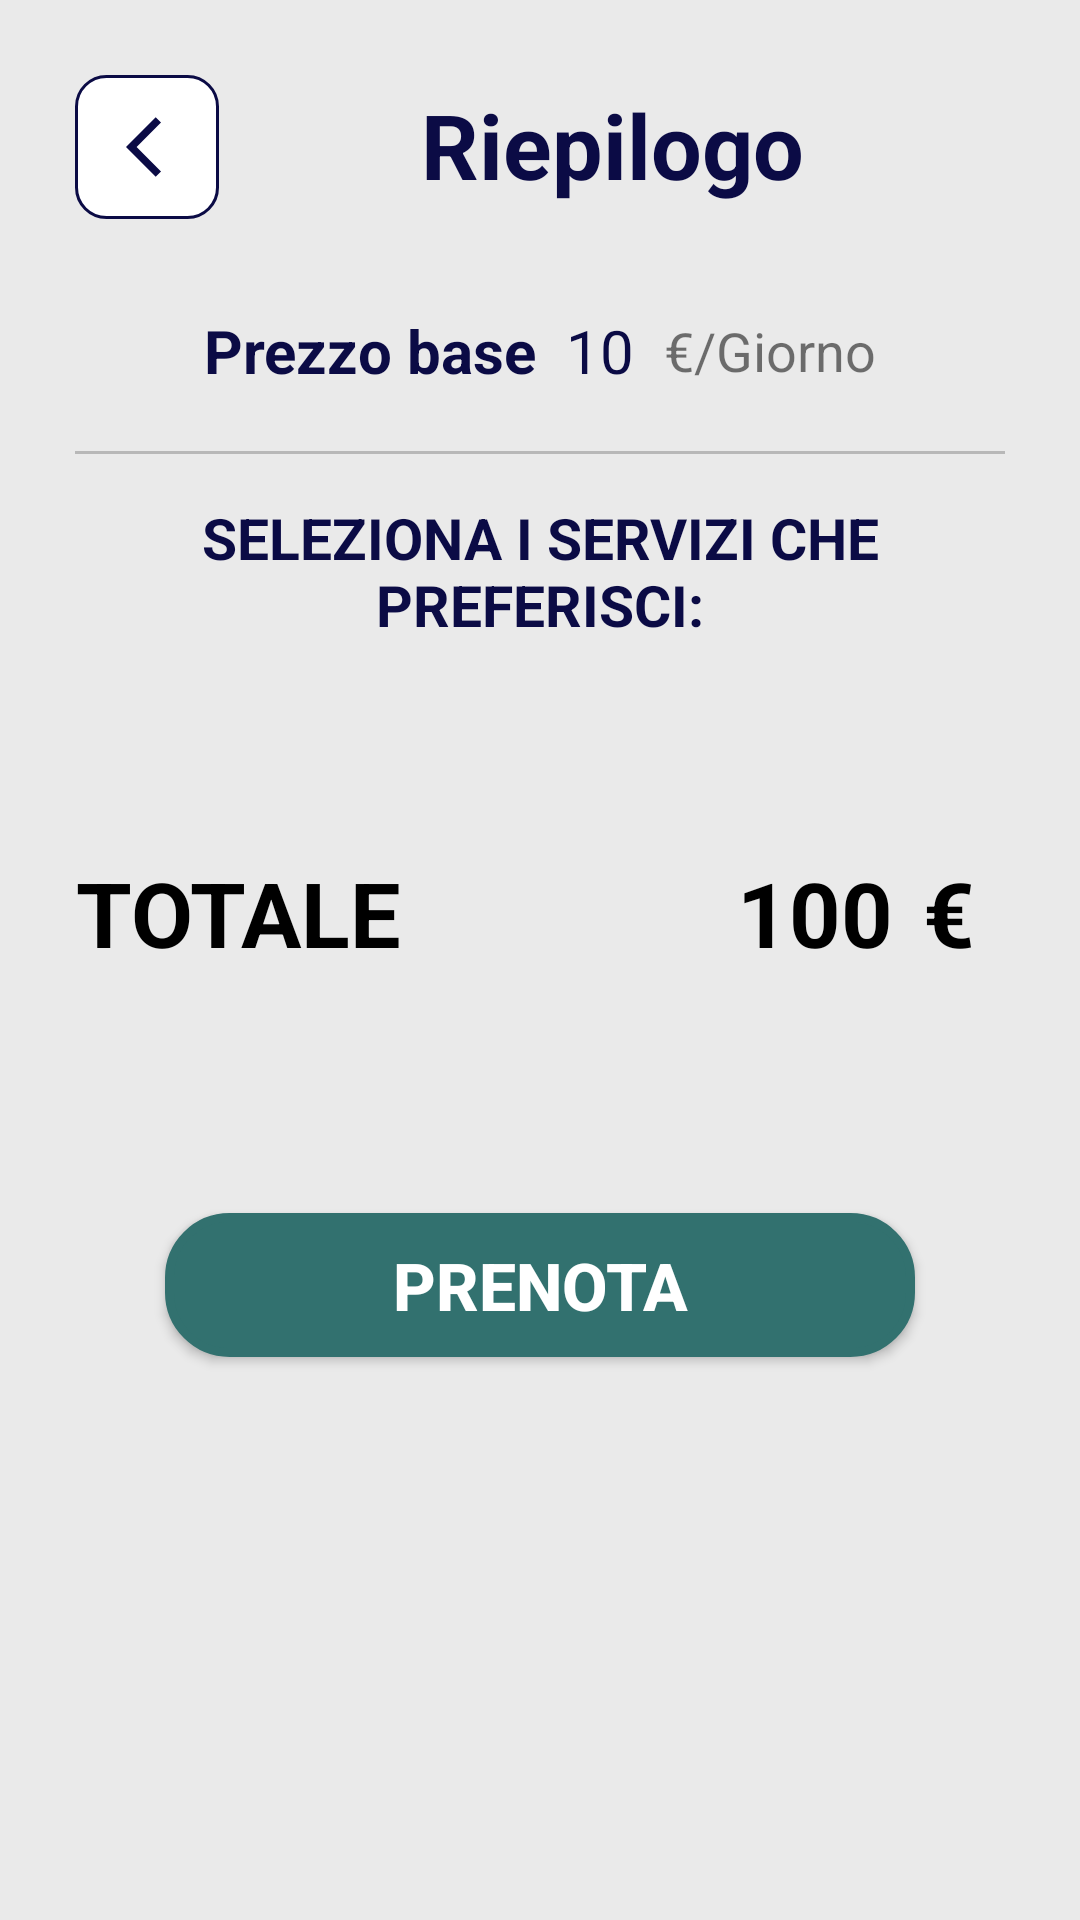

Screen size 1080px×1920px. Icon name, then its center in pixels as (x,y):
Indietro: (147,147)
